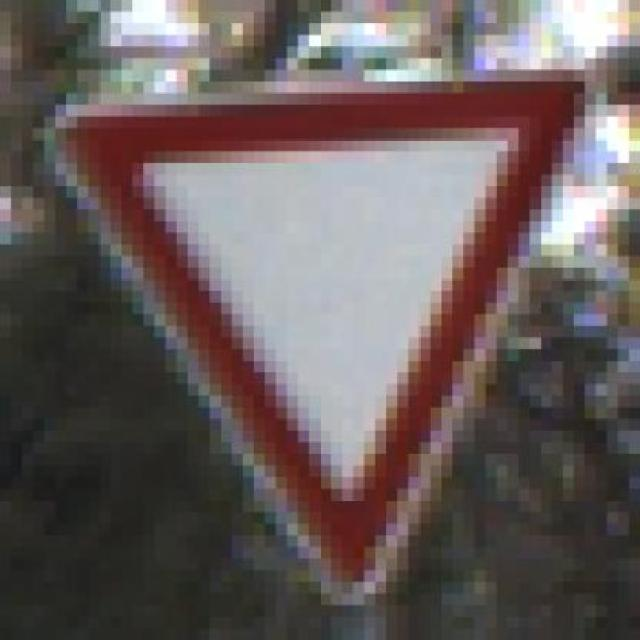Give Way: (22, 46, 629, 617)
